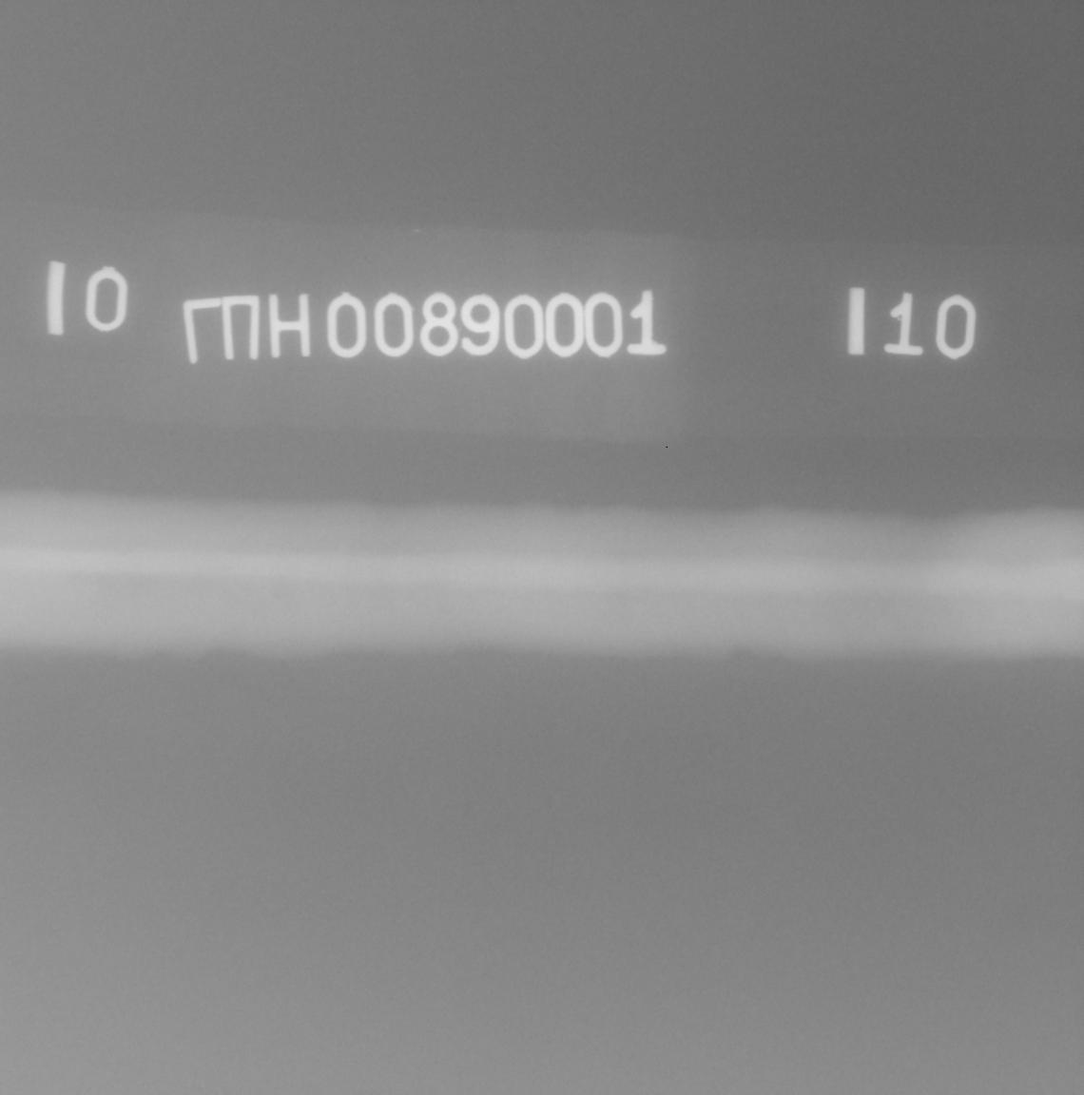Pore/Porosity: (274, 593, 281, 599)
